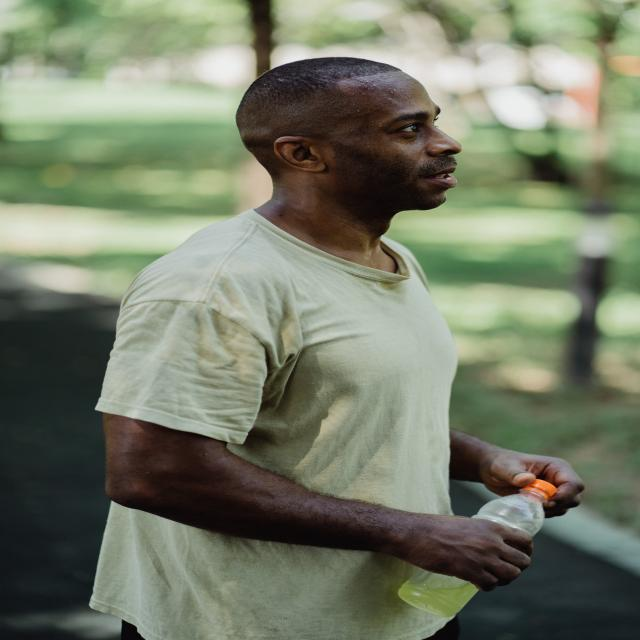bottle: (396, 479, 554, 618)
